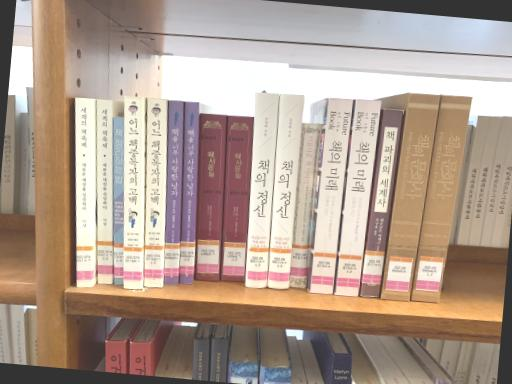book-spine: (410, 95, 472, 303), (380, 92, 440, 302), (334, 99, 381, 297), (309, 97, 353, 294), (360, 108, 403, 297), (267, 92, 303, 289), (245, 92, 279, 288), (288, 123, 322, 288), (194, 113, 226, 281), (221, 114, 253, 281), (144, 98, 168, 287), (123, 96, 143, 288), (164, 100, 183, 284), (180, 101, 199, 284), (74, 97, 92, 287), (96, 99, 112, 284), (113, 117, 123, 284)
